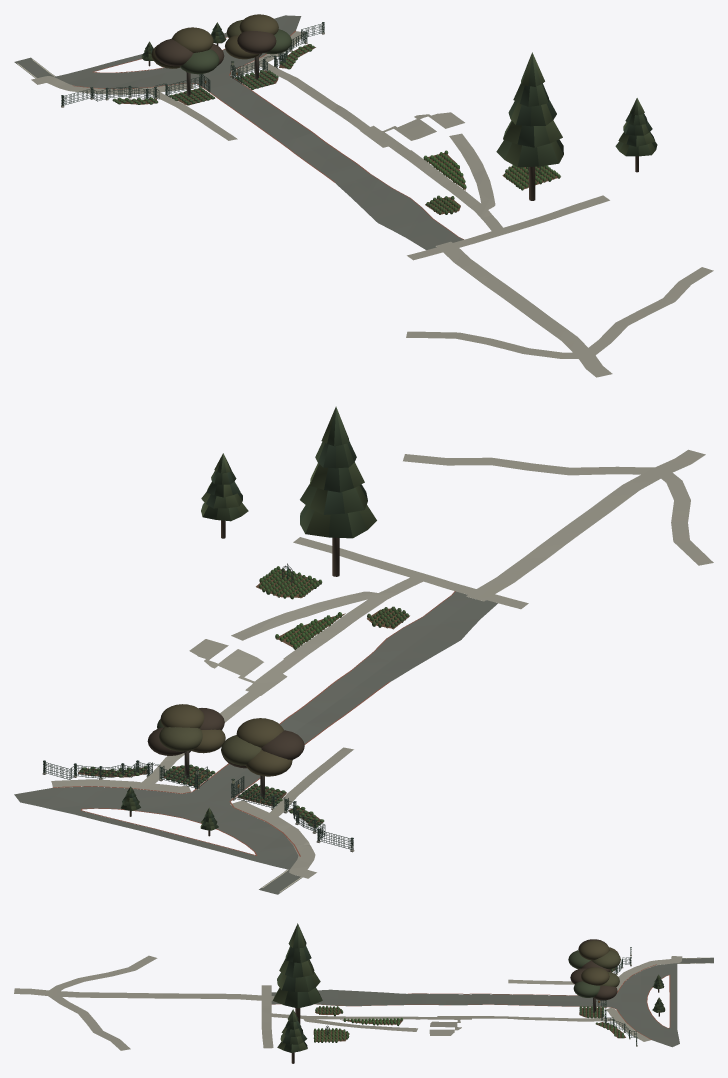
Rendered from site.glb.
3 views of the same model, one above another, from view 1: azimuth 30°, elevation 25°; view 2: azimuth 150°, elevation 25°; view 3: azimuth 270°, elevation 25° (orthographic). The views are drawn at different scales.
Parts seen in each view (by area): view 1: dads-gates-approach, dads-gates-planting, dads-gates-ironwork; view 2: dads-gates-approach, dads-gates-planting, dads-gates-ironwork; view 3: dads-gates-approach, dads-gates-planting, dads-gates-ironwork.
Part boxes in pixels (x1,y1,x2,y2): dads-gates-approach: [14, 15, 713, 377]; dads-gates-planting: [112, 14, 657, 214]; dads-gates-ironwork: [17, 22, 560, 239]; dads-gates-approach: [14, 449, 713, 894]; dads-gates-planting: [79, 406, 408, 836]; dads-gates-ironwork: [42, 569, 455, 892]; dads-gates-approach: [14, 955, 713, 1050]; dads-gates-planting: [272, 923, 665, 1063]; dads-gates-ironwork: [272, 947, 709, 1046].
Bounding box in the file's own units: 70.9 × 30.35 × 162.
